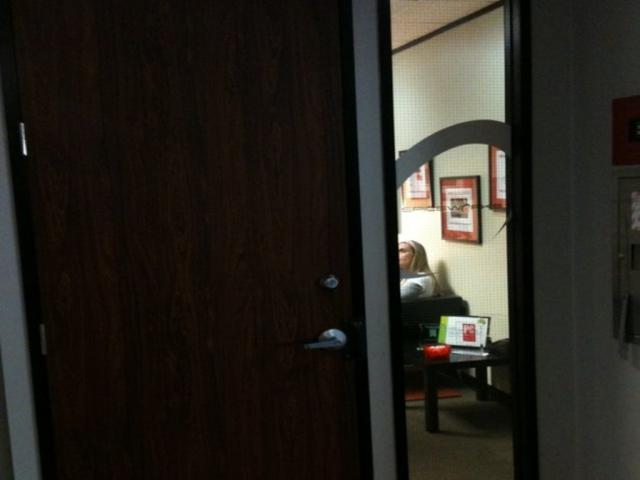Door-handle: (295, 330, 348, 351)
